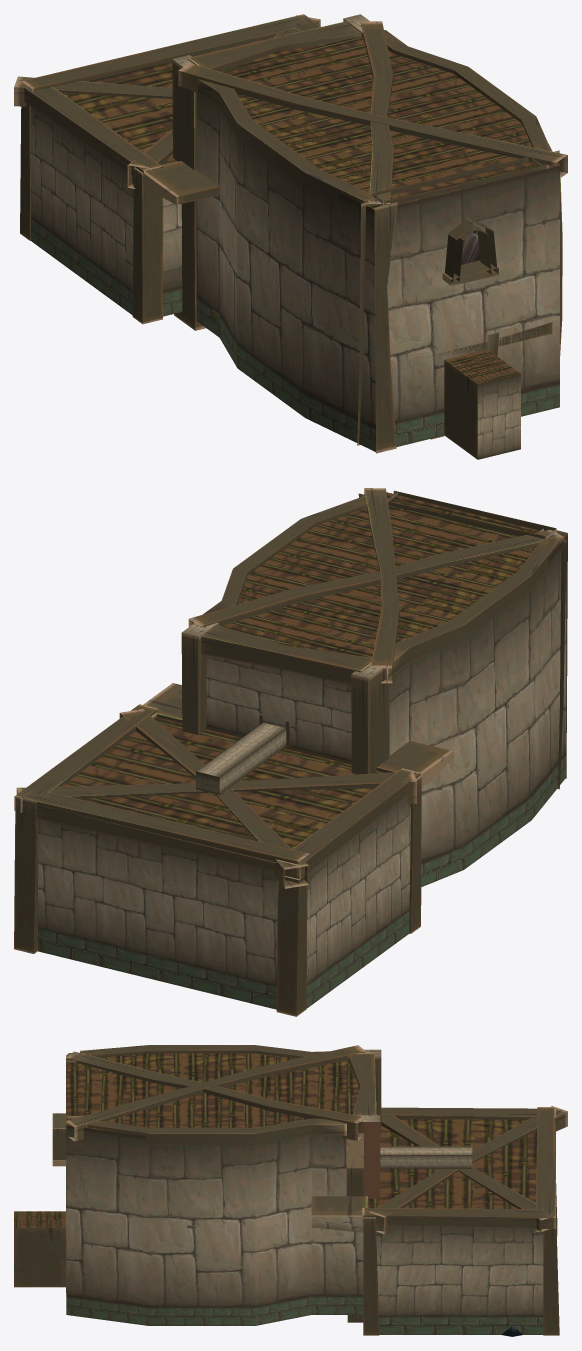
Rendered from Bomb shop.obj.
3 views of the same model, one above another, from view 1: azimuth 30°, elevation 25°; view 2: azimuth 150°, elevation 25°; view 3: azimuth 270°, elevation 25° (orthographic). The views are drawn at different scales.
Visible parts, largest first — view 1: n7b7; view 2: n7b7; view 3: n7b7.
Boxes of the visible parts, left/top/right/bottom form: n7b7: left=14, top=14, right=567, bottom=459; n7b7: left=14, top=488, right=567, bottom=1016; n7b7: left=14, top=1045, right=567, bottom=1336.
Bounding box in the file's own units: 1.04 × 0.8554 × 2.12.
18 materials, 18 textured.
